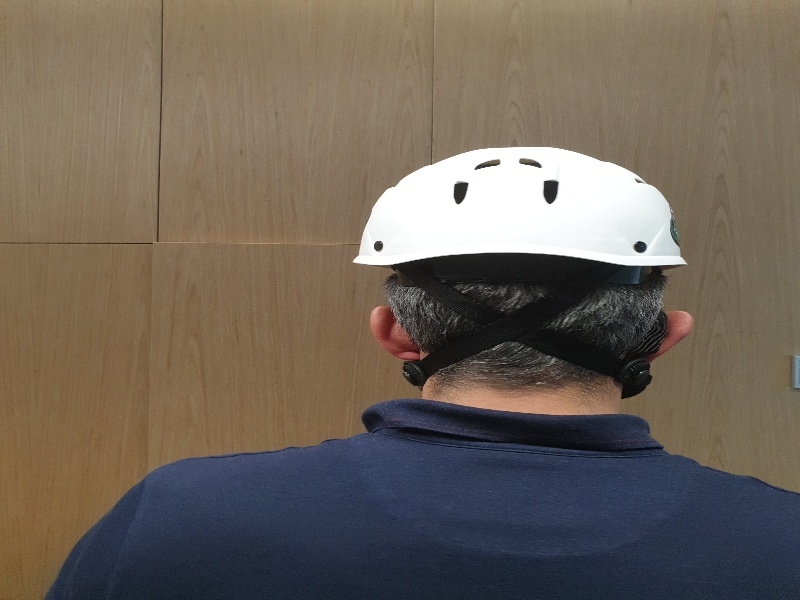Baret: (366, 142, 693, 277)
